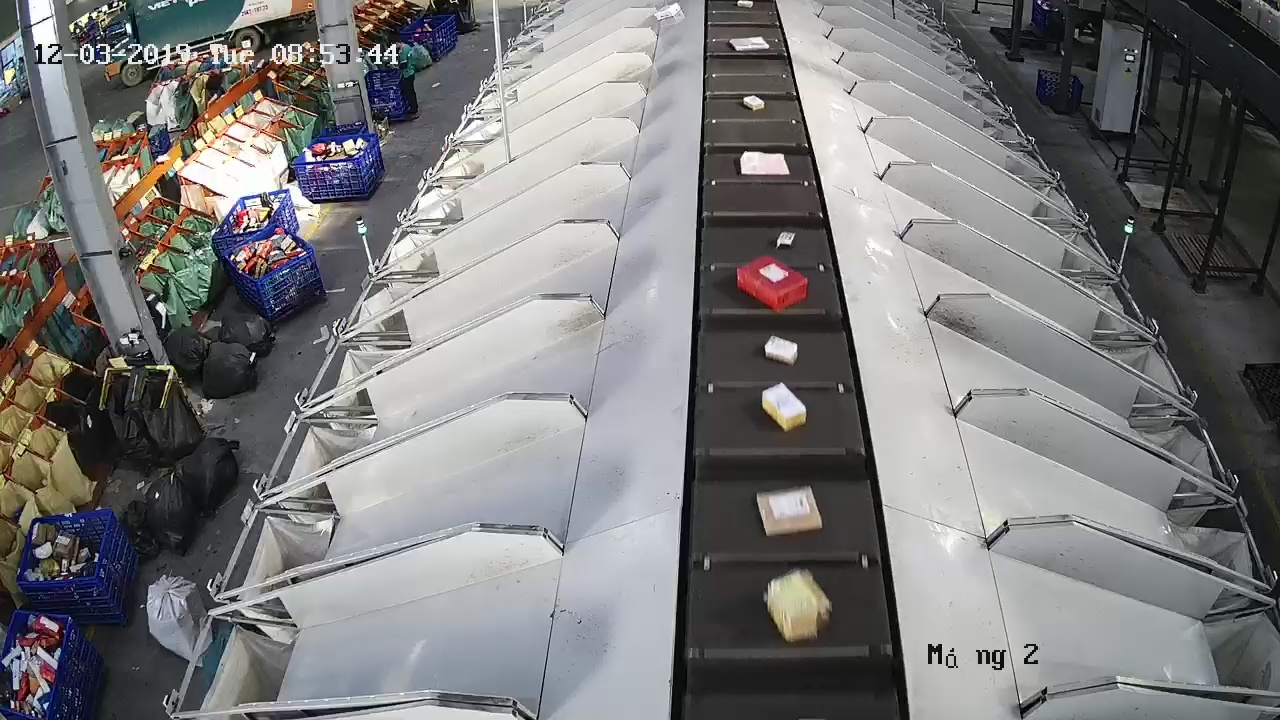parcel: (761, 566, 835, 643), (734, 253, 809, 313), (754, 482, 825, 539), (760, 380, 808, 434), (738, 150, 792, 177), (762, 333, 800, 368), (775, 229, 796, 250)
